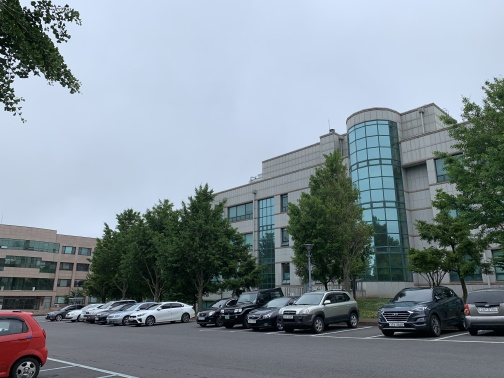Joint Experimental Labs: (2, 224, 93, 312)
Second Library: (200, 97, 503, 290)
